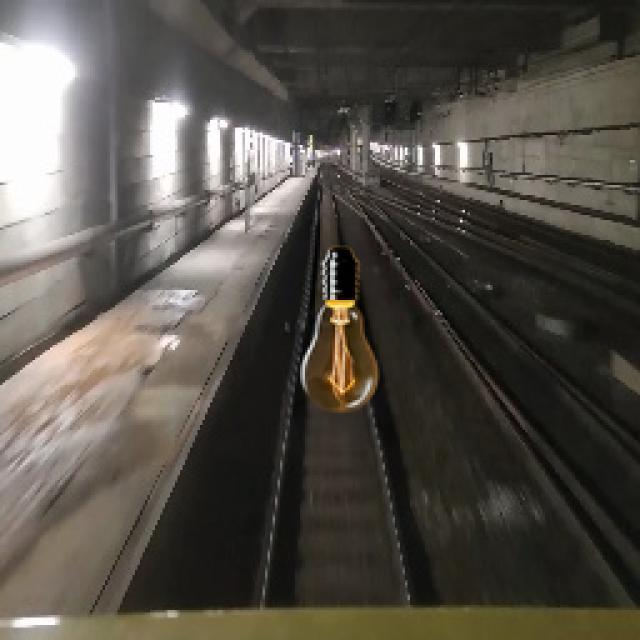danger: (286, 241, 392, 422)
rail: (236, 156, 451, 611)
